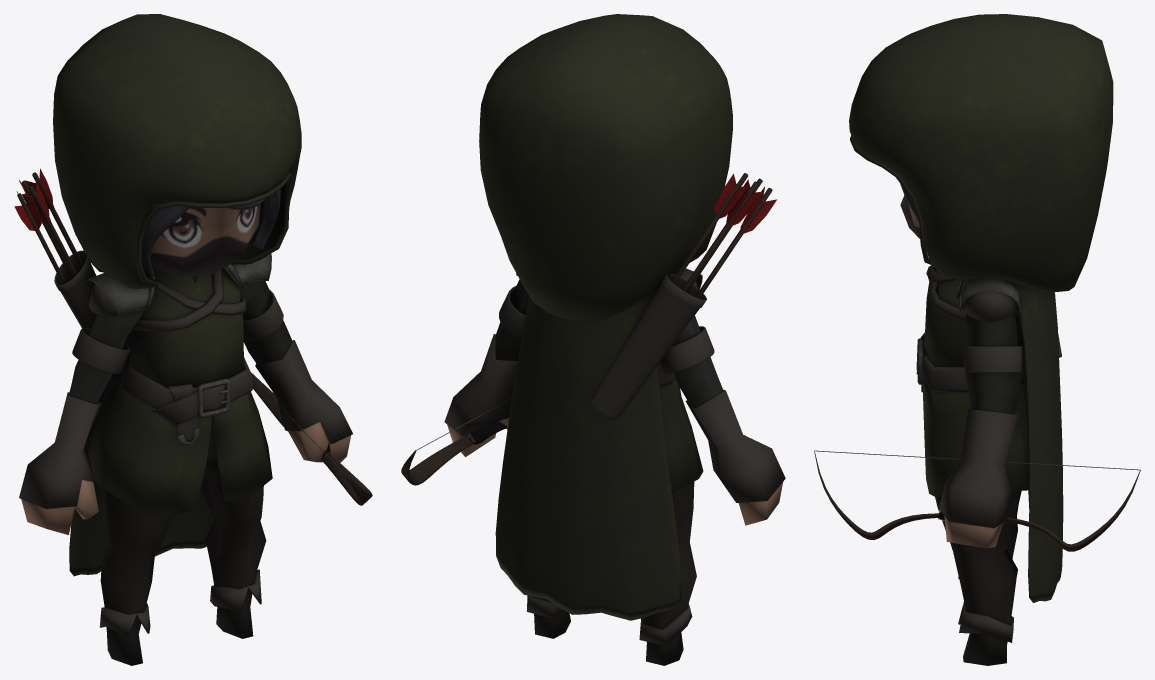
Rendered from Bandit_Danica.fbx.
The picture shows the model from 3 angles, left to right: view 1: azimuth 30°, elevation 25°; view 2: azimuth 150°, elevation 25°; view 3: azimuth 270°, elevation 25°; orthographic projection. The views are drawn at different scales.
Visible parts, largest first — view 1: Bandit_3.002; view 2: Bandit_3.002; view 3: Bandit_3.002.
Part boxes in pixels (bbox=[...]): Bandit_3.002: bbox=[14, 14, 372, 665]; Bandit_3.002: bbox=[401, 14, 785, 665]; Bandit_3.002: bbox=[814, 14, 1140, 665].
Size of the model in its own units: 105 by 188 by 91.07.
